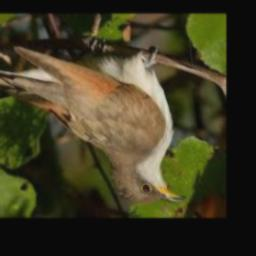Cuckoo: (10, 46, 186, 204)
